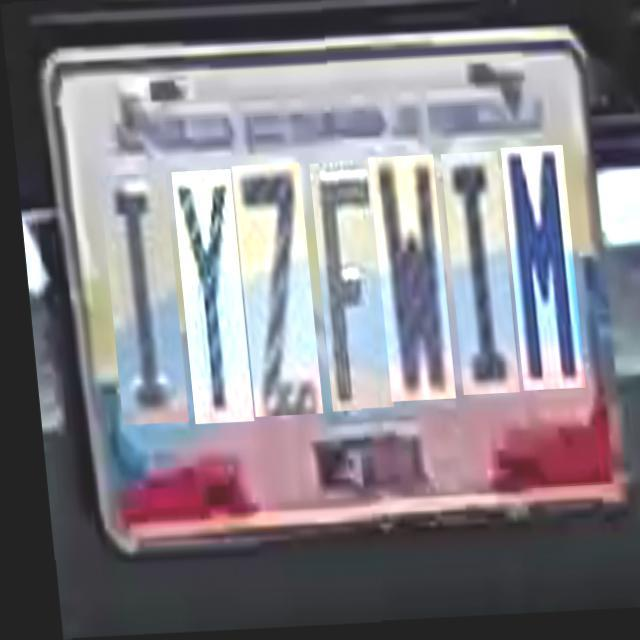F: (306, 164, 386, 414)
I: (96, 173, 180, 425), (437, 156, 511, 400)
M: (498, 151, 578, 396)
W: (365, 160, 447, 406)
Y: (168, 170, 245, 424)
Z: (228, 165, 314, 418)
